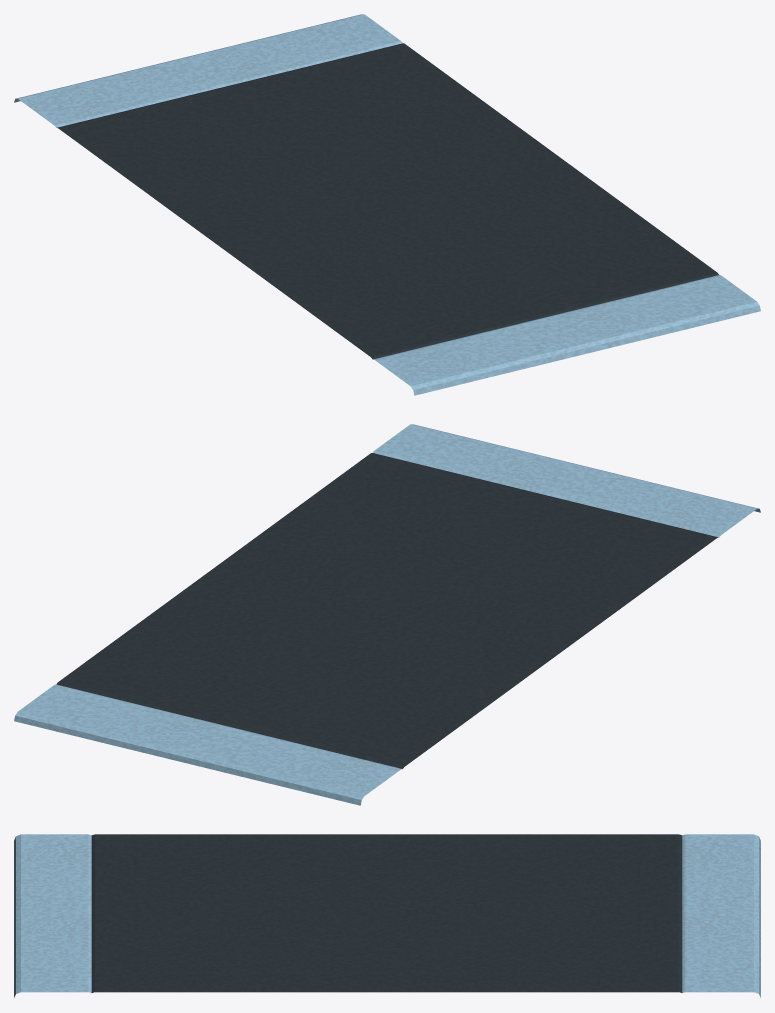
The model's file is AlfombraMid.fbx.
3 views of the same model, one above another, from view 1: azimuth 30°, elevation 25°; view 2: azimuth 150°, elevation 25°; view 3: azimuth 270°, elevation 25° (orthographic). The views are drawn at different scales.
Visible parts, largest first — view 1: AlfombraMid; view 2: AlfombraMid; view 3: AlfombraMid.
Part boxes in pixels (box(x1,y1,x2,y2)): AlfombraMid: box(14, 14, 760, 395); AlfombraMid: box(14, 424, 760, 805); AlfombraMid: box(14, 834, 760, 997).
Bounding box in the file's own units: 200 × 3.74 × 400.
